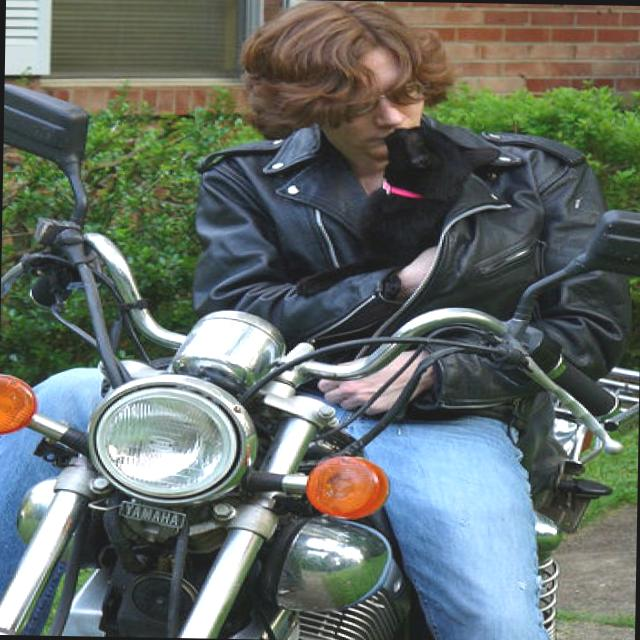Vehicle: (0, 232, 639, 640)
